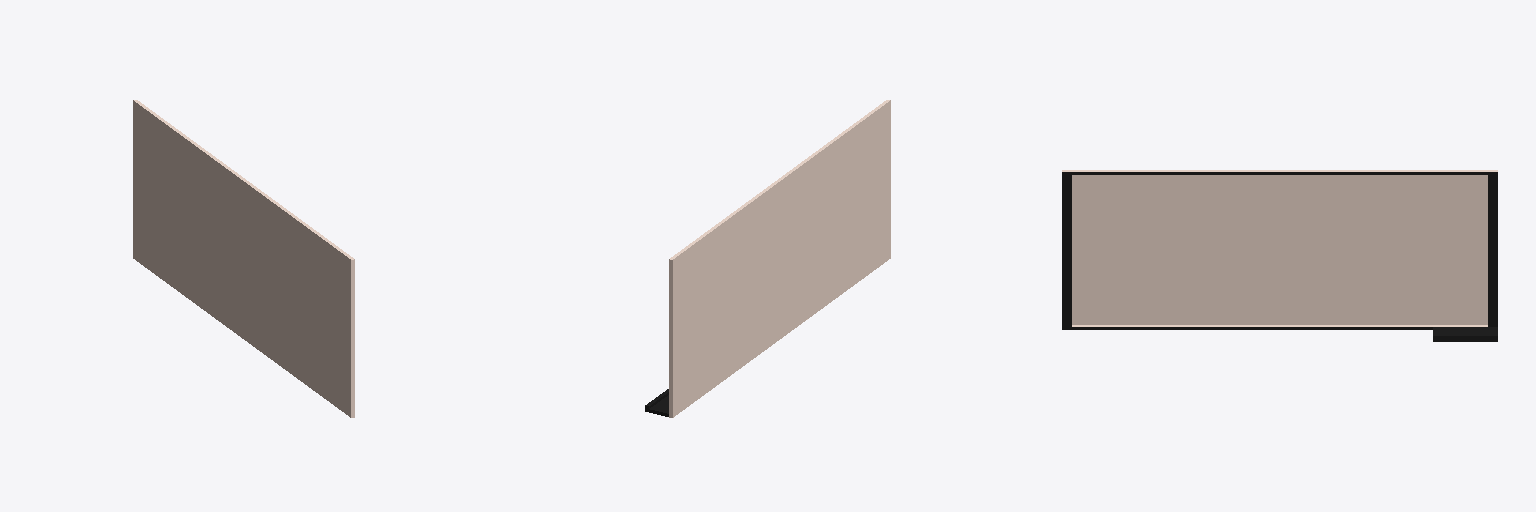
File: quadro.obj
3 views of the same model, side by side, from view 1: azimuth 30°, elevation 25°; view 2: azimuth 150°, elevation 25°; view 3: azimuth 270°, elevation 25° (orthographic).
Visible parts, largest first — view 1: Cube.001; view 2: Cube.001; view 3: Cube.001.
Boxes of the visible parts, <box> form: Cube.001: <box>133,100,354,417</box>; Cube.001: <box>645,100,890,417</box>; Cube.001: <box>1062,170,1497,341</box>.
Bounding box in the file's own units: 3.71 × 20.62 × 51.53.